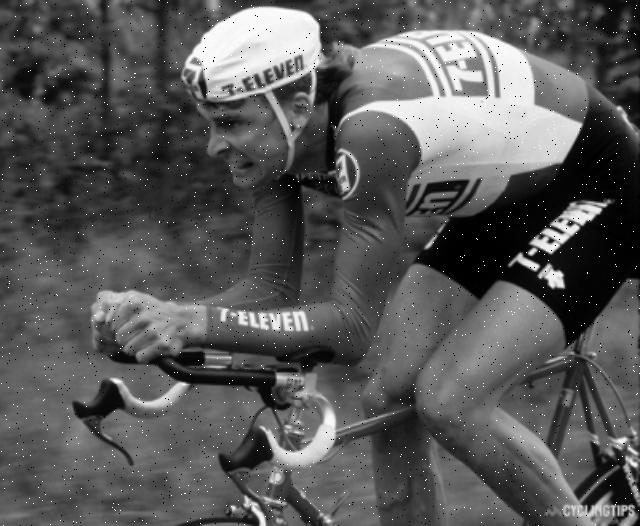With Helmet: (170, 7, 322, 205)
